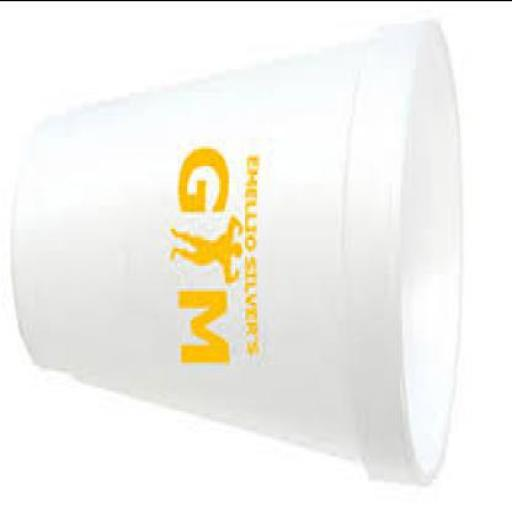paper: (14, 20, 464, 483)
